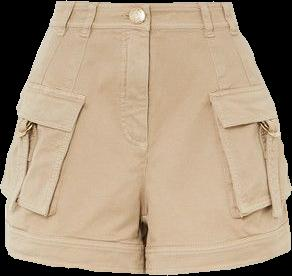Hemline: (4, 246, 145, 275), (144, 248, 291, 275)
Pantleg: (0, 1, 150, 275), (145, 2, 291, 274)
Waistline: (55, 1, 232, 7), (47, 24, 239, 29)
